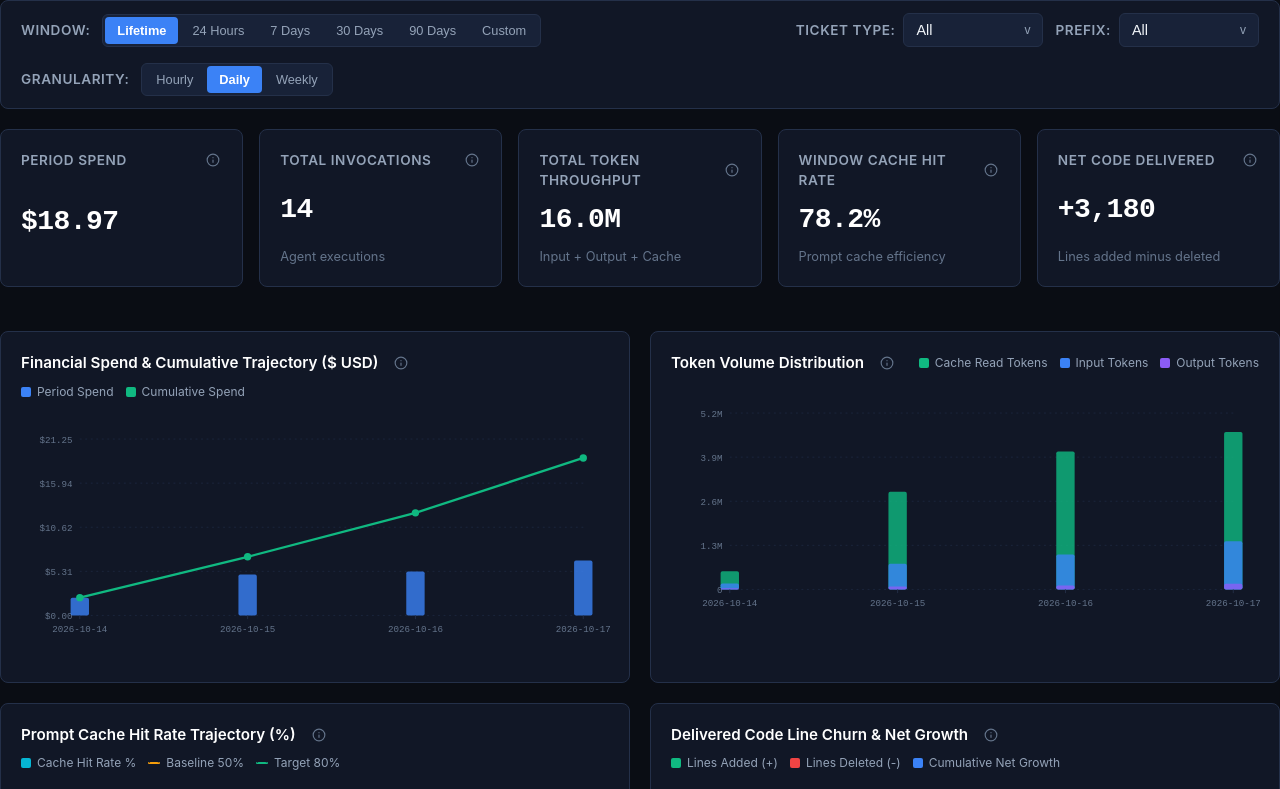
Test: MetricProgression View Component › toggles 24 Hours, Hourly granularity, and Custom datetime window with validation
Expected: the text "Total Invocations" is shown, [280,150,432,170]
Step 1. Click the button "24 Hours" → (218,30), box [180,16,256,44]
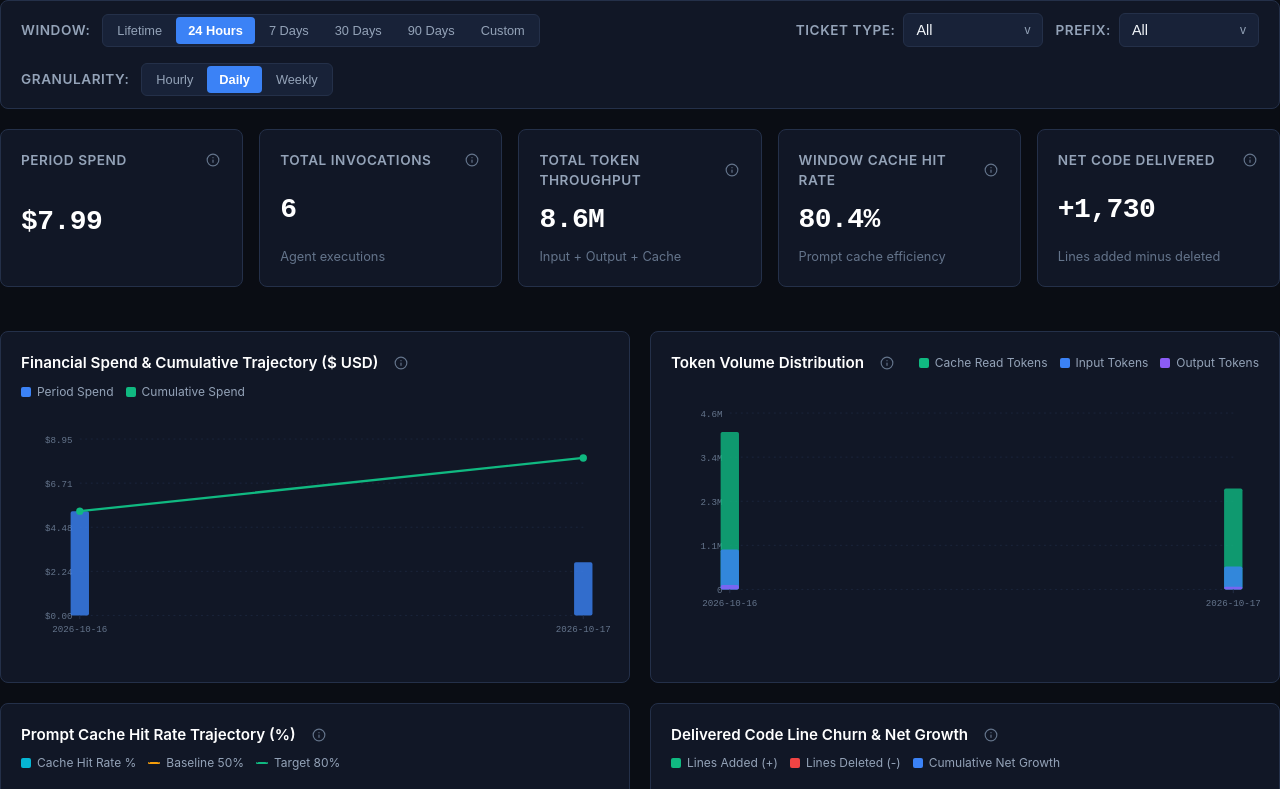
Expected: the button "24 Hours" has class "active", [176,16,255,44]
Step 2. Click the button "Hourly" → (175,80), box [144,66,205,93]
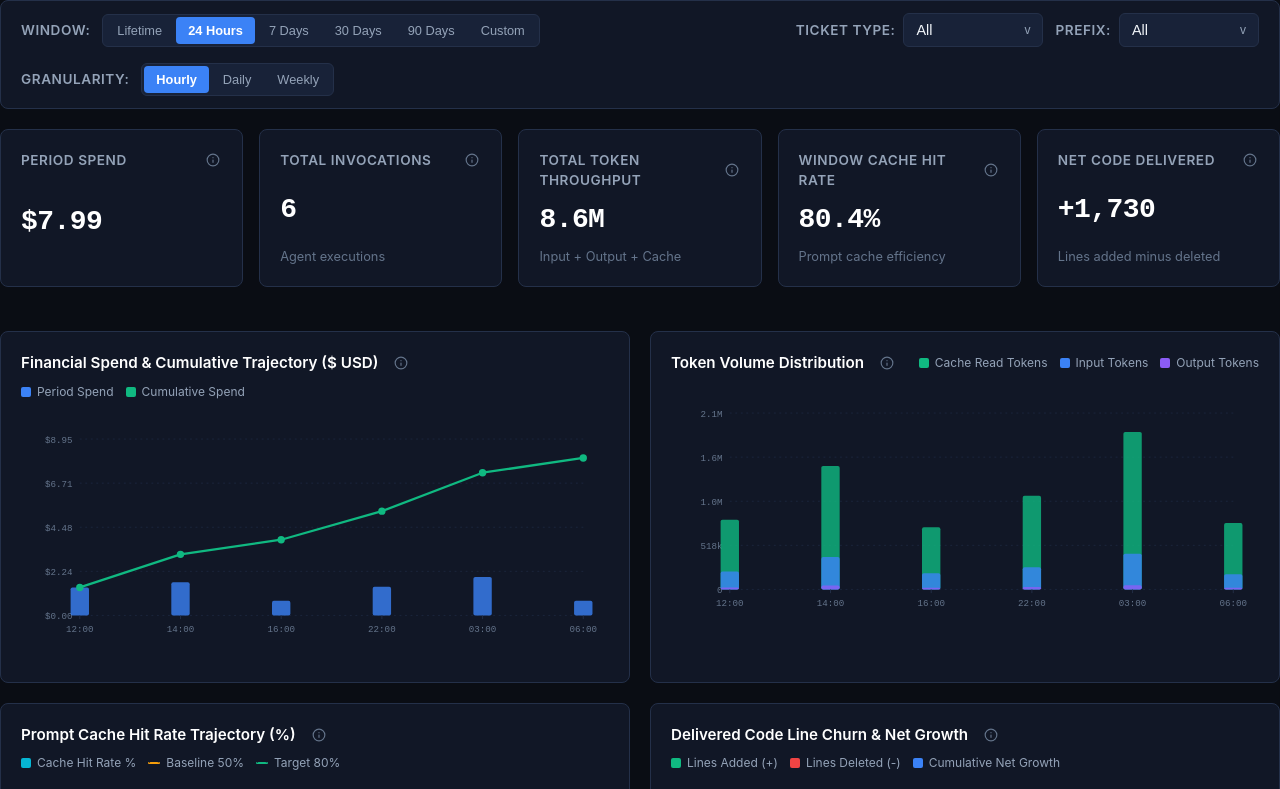
Expected: the button "Hourly" has class "active", [144,66,209,93]
Step 3. Click the button "Custom" → (503,30), box [469,16,537,44]
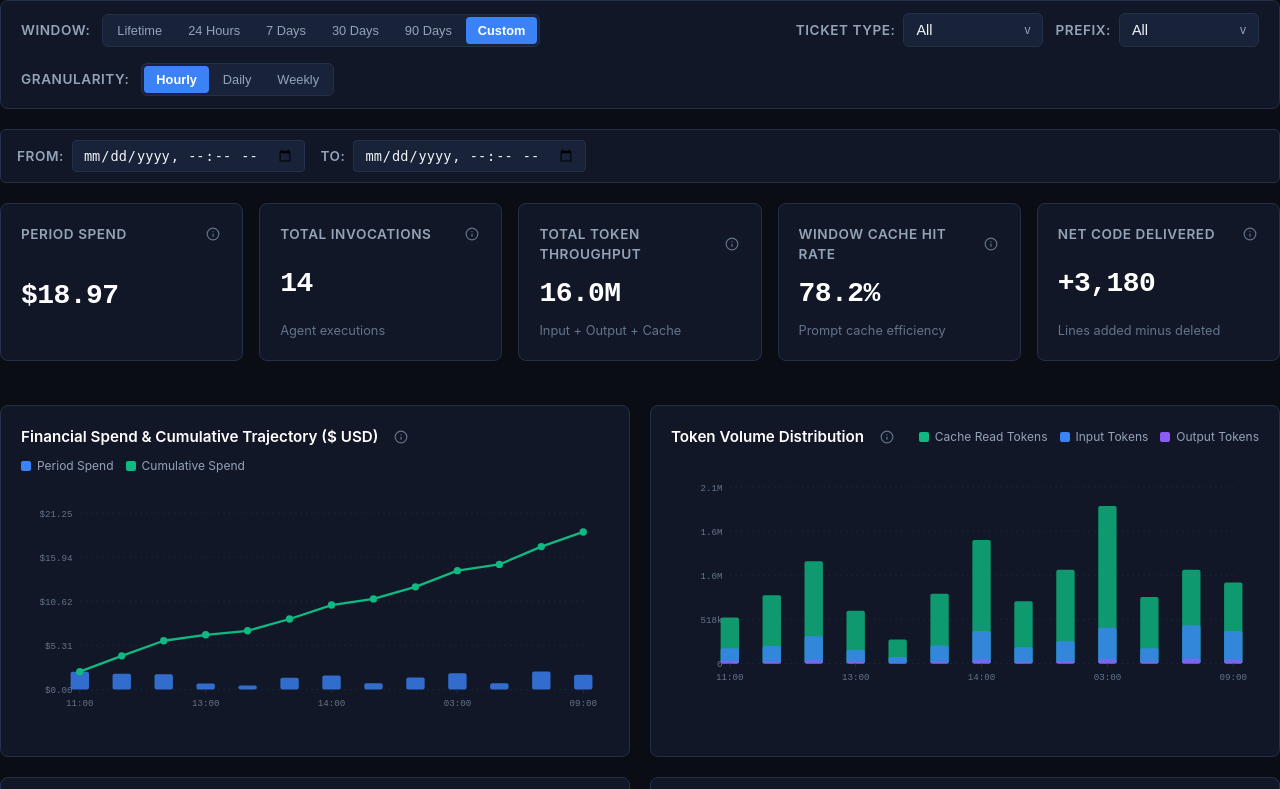
Expected: the field named "Start Date and Time" is shown
Expected: the field named "End Date and Time" is shown, [354,140,586,172]
Enter valid date range
Step 4. Type "2026-10-15T09:00" into the field named "Start Date and Time" → (188,156), box [72,140,304,172]
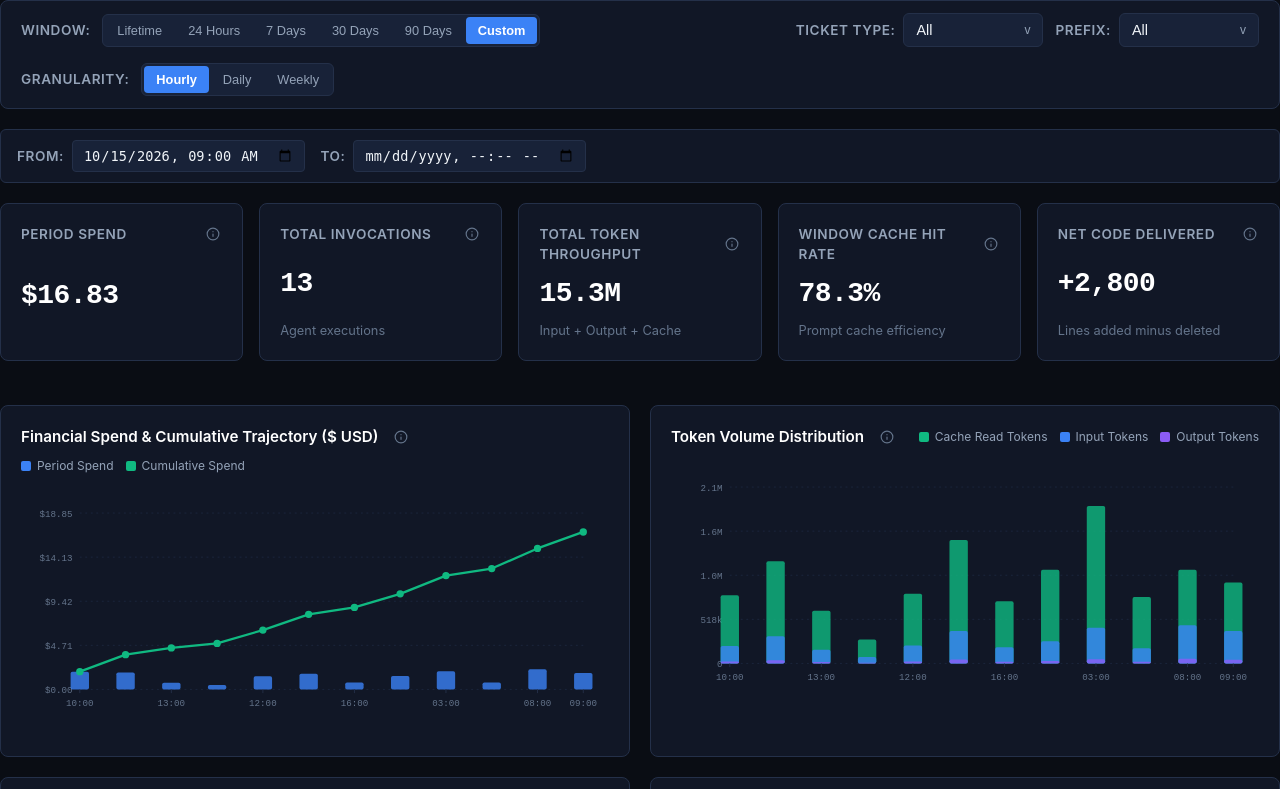
Step 5. Type "2026-10-15T18:00" into the field named "End Date and Time" → (470,156), box [354,140,586,172]
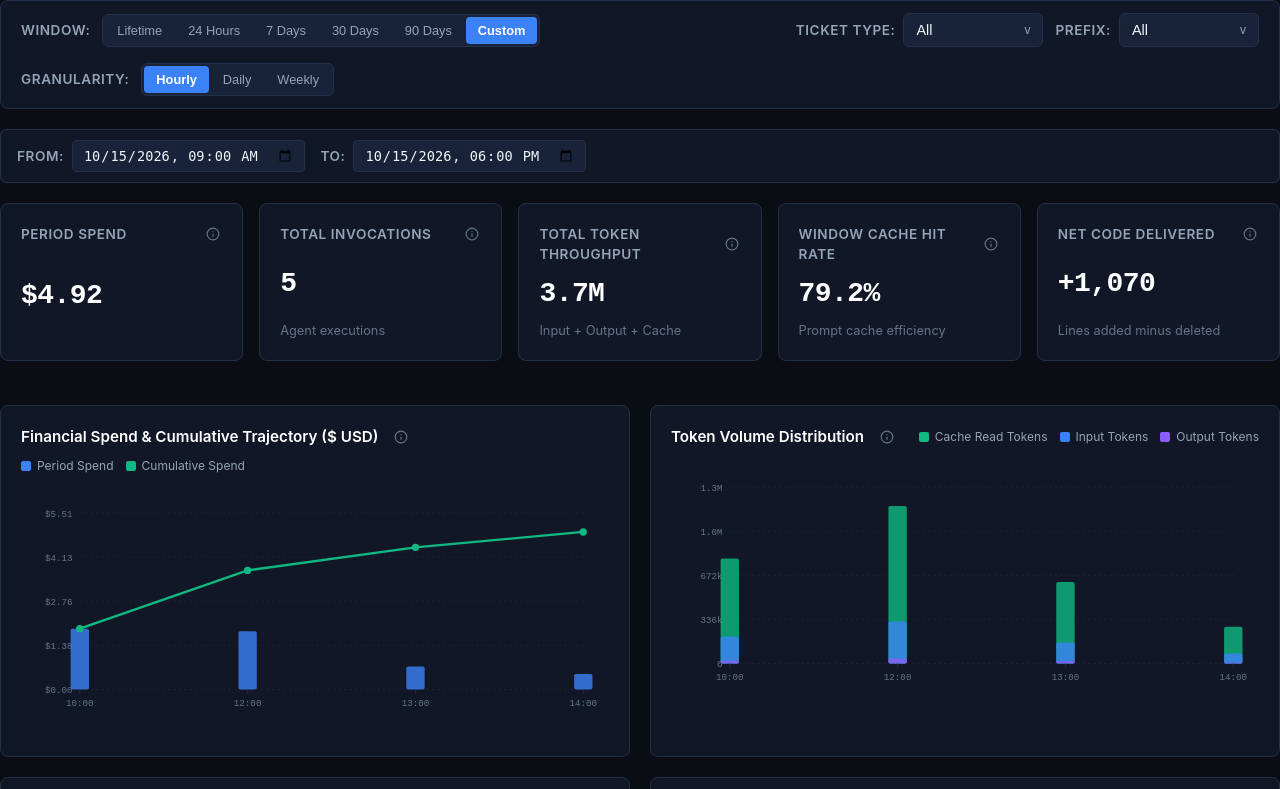
Expected: the text "Start datetime cannot be after End datetime" is not shown
Step 6. Replace the text in the field named "Start Date and Time" with "2026-10-15T20:00" → (188,156), box [72,140,304,172]
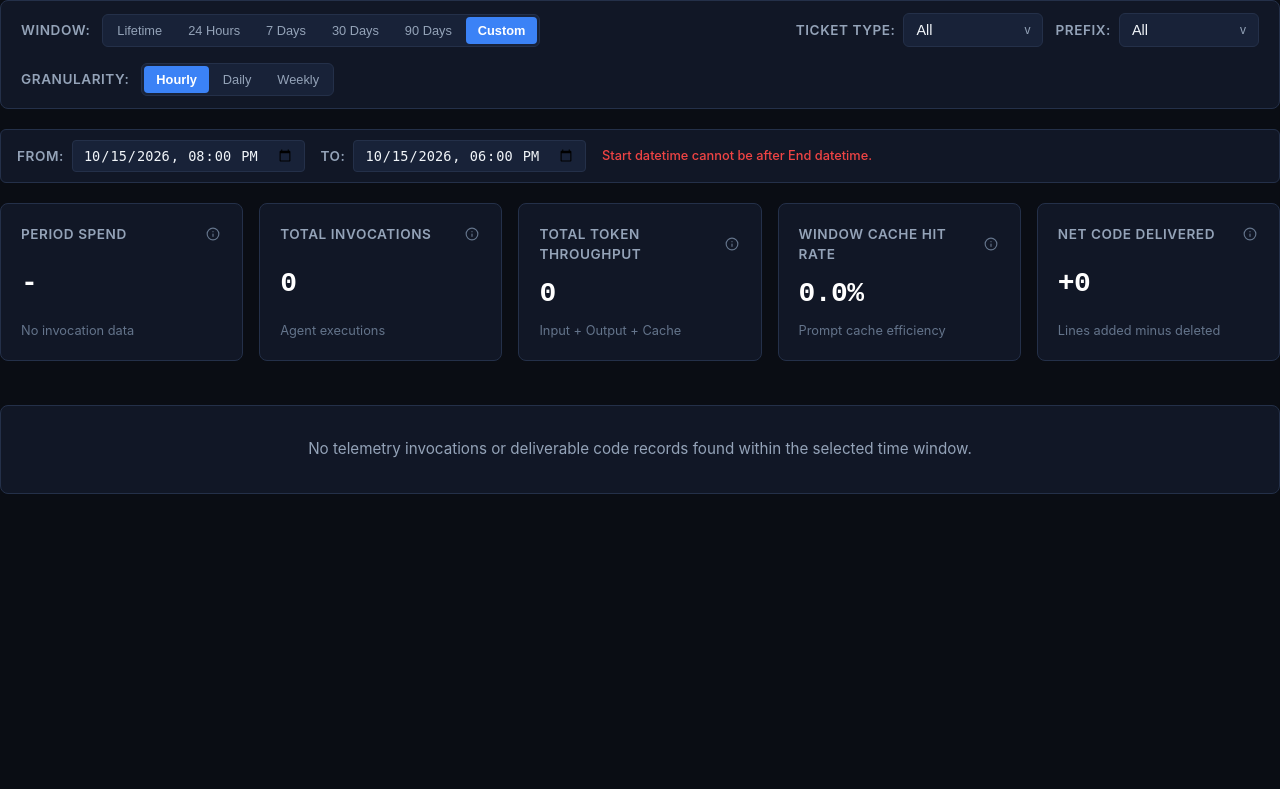
Expected: the text "Start datetime cannot be after End datetime." is shown, [602,146,872,166]
